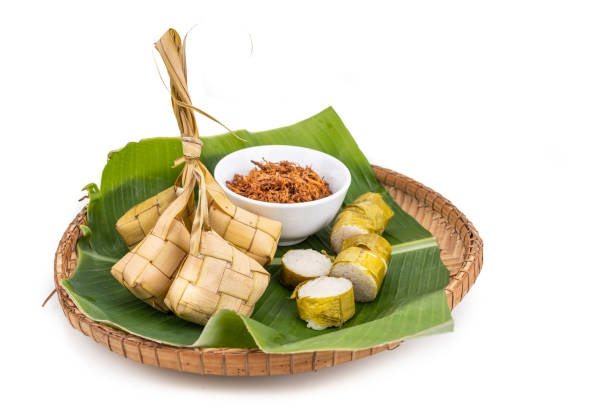ketupat: (163, 229, 271, 324)
